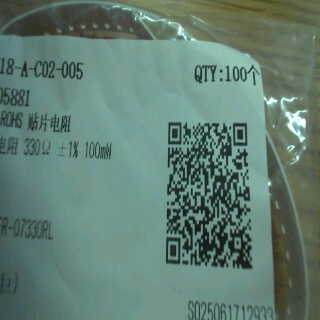330R: (22, 135, 55, 160)
